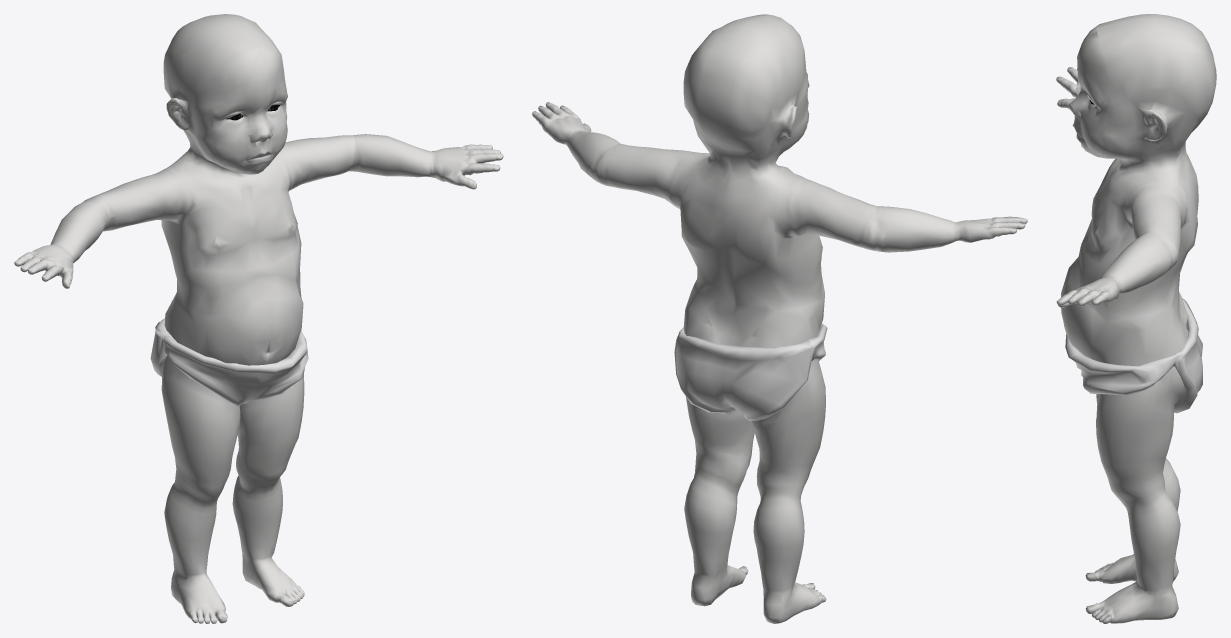
File: Baby.fbx
3 views of the same model, side by side, from view 1: azimuth 30°, elevation 25°; view 2: azimuth 150°, elevation 25°; view 3: azimuth 270°, elevation 25° (orthographic).
Visible parts, largest first — view 1: Model; view 2: Model; view 3: Model.
Part boxes in pixels (left/top/right/bottom): Model: left=14, top=14, right=503, bottom=623; Model: left=532, top=14, right=1027, bottom=623; Model: left=1056, top=14, right=1216, bottom=623.
Bounding box in the file's own units: 130 × 149 × 37.24.
